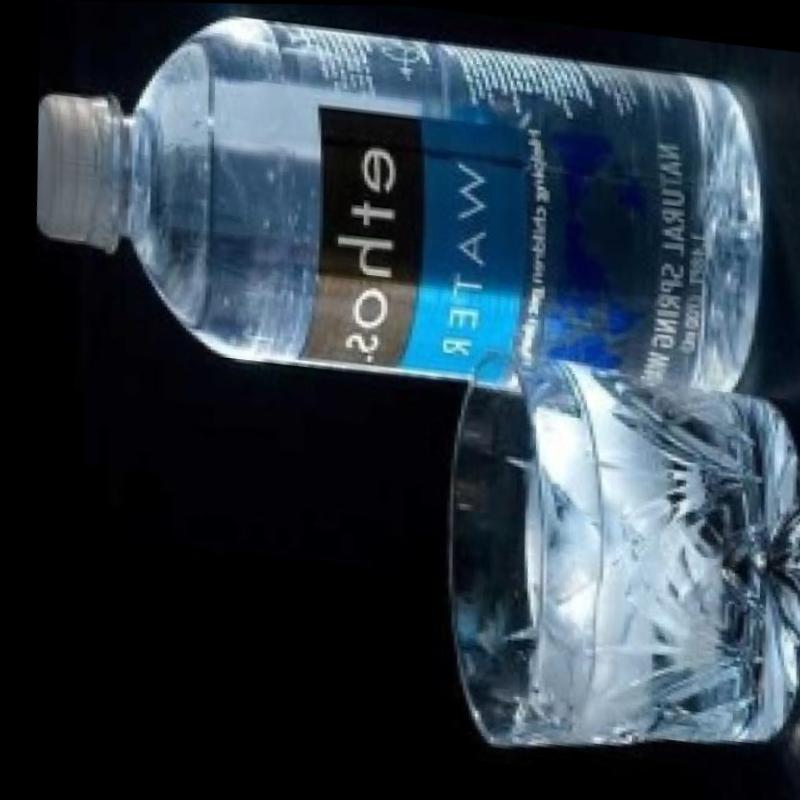botella: (5, 0, 776, 410)
